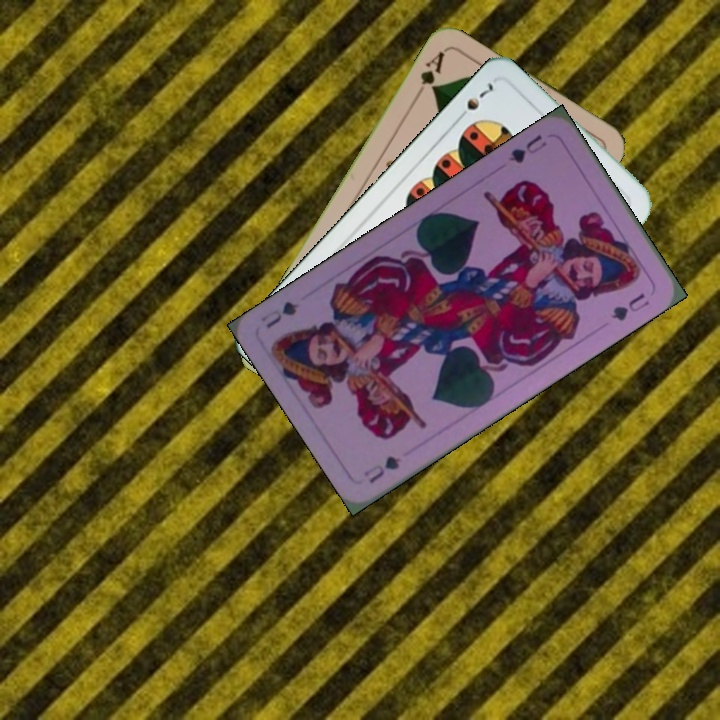GA: (410, 47, 448, 102)
GU: (505, 130, 549, 166), (359, 451, 403, 486)
S7: (452, 78, 496, 124)
